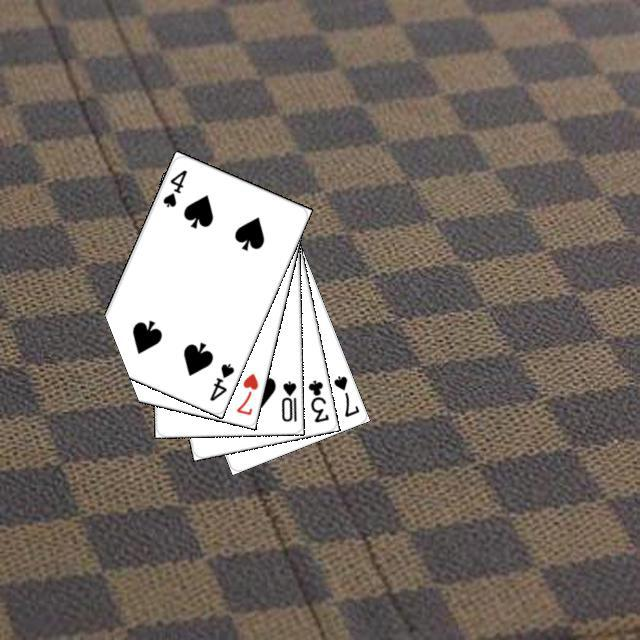10s: (276, 376, 298, 423)
3c: (303, 375, 330, 424)
4s: (205, 358, 236, 403), (158, 165, 189, 209)
7h: (231, 368, 260, 417)
7s: (329, 371, 361, 419)
